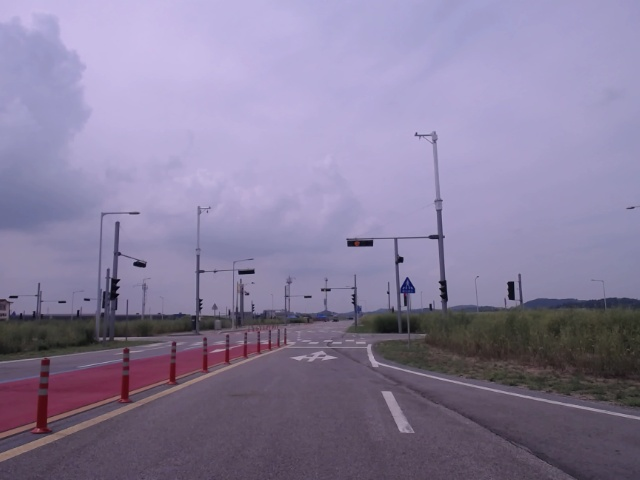orange_4: (346, 239, 374, 248), (320, 287, 332, 293)
